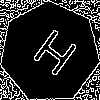H: (24, 27, 80, 86)
